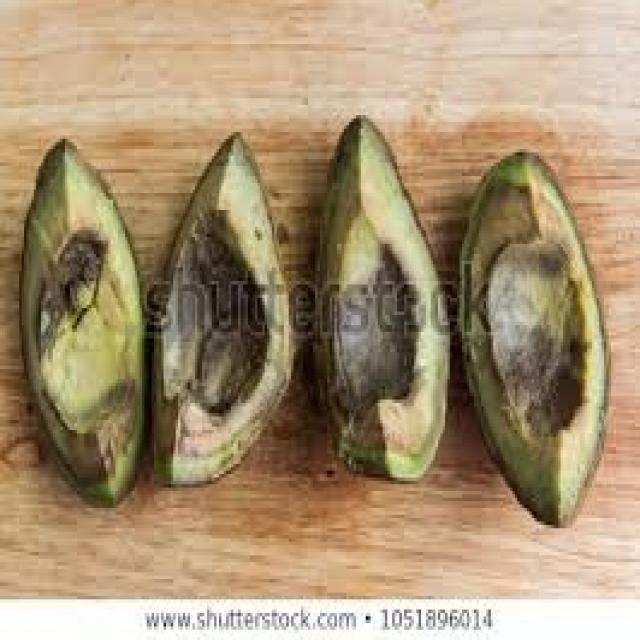biodegradable: (455, 149, 609, 525), (144, 129, 289, 484), (310, 112, 445, 481), (14, 136, 147, 505)
